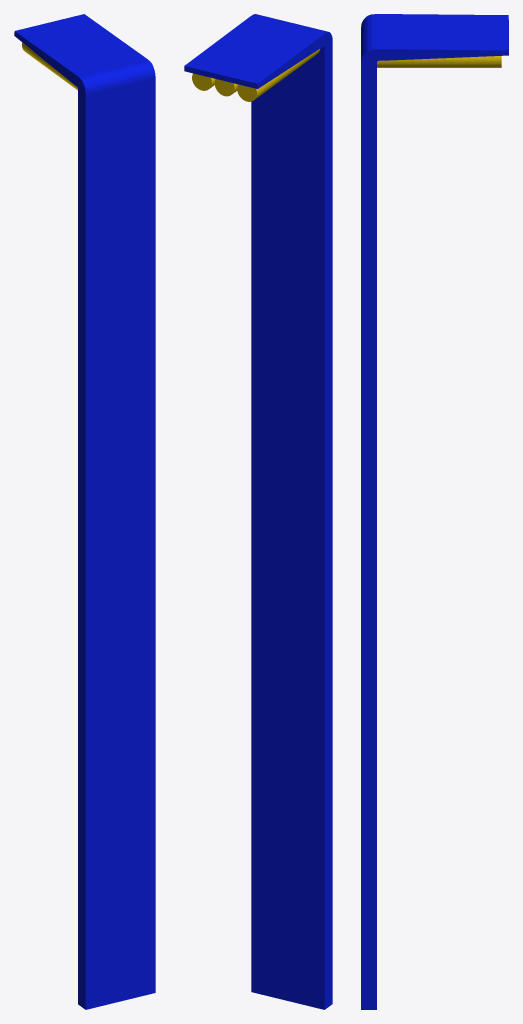
The model's file is shortlamp.fbx.
3 views of the same model, side by side, from view 1: azimuth 30°, elevation 25°; view 2: azimuth 150°, elevation 25°; view 3: azimuth 270°, elevation 25° (orthographic). The views are drawn at different scales.
Parts seen in each view (by area): view 1: Cylinder.005; view 2: Cylinder.005; view 3: Cylinder.005.
Boxes of the visible parts, <box> form: Cylinder.005: <box>14,14,155,1009</box>; Cylinder.005: <box>184,14,332,1009</box>; Cylinder.005: <box>361,14,508,1009</box>.
Size of the model in its own units: 65.87 by 837 by 117.
